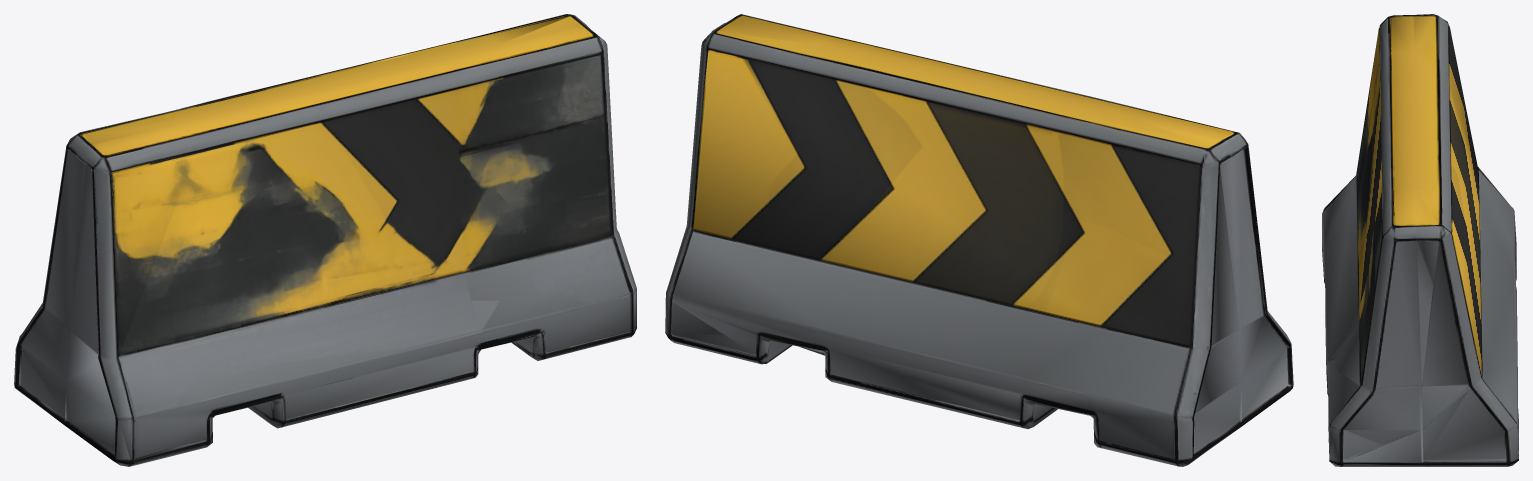
Rendered from barrier.glb.
3 renders of one model, left to right at view 1: azimuth 30°, elevation 25°; view 2: azimuth 150°, elevation 25°; view 3: azimuth 270°, elevation 25°, orthographic. The views are drawn at different scales.
Visible parts, largest first — view 1: tripo_node_94426c1c-ff9c-460b-9aa4-7b69ccf79585; view 2: tripo_node_94426c1c-ff9c-460b-9aa4-7b69ccf79585; view 3: tripo_node_94426c1c-ff9c-460b-9aa4-7b69ccf79585.
Boxes of the visible parts, box(x1,y1,x2,y2) form: tripo_node_94426c1c-ff9c-460b-9aa4-7b69ccf79585: box(14, 14, 636, 466); tripo_node_94426c1c-ff9c-460b-9aa4-7b69ccf79585: box(665, 14, 1293, 466); tripo_node_94426c1c-ff9c-460b-9aa4-7b69ccf79585: box(1322, 14, 1518, 466).
Bounding box in the file's own units: 2.23 × 1.15 × 0.8352.
1 material, 1 textured.
